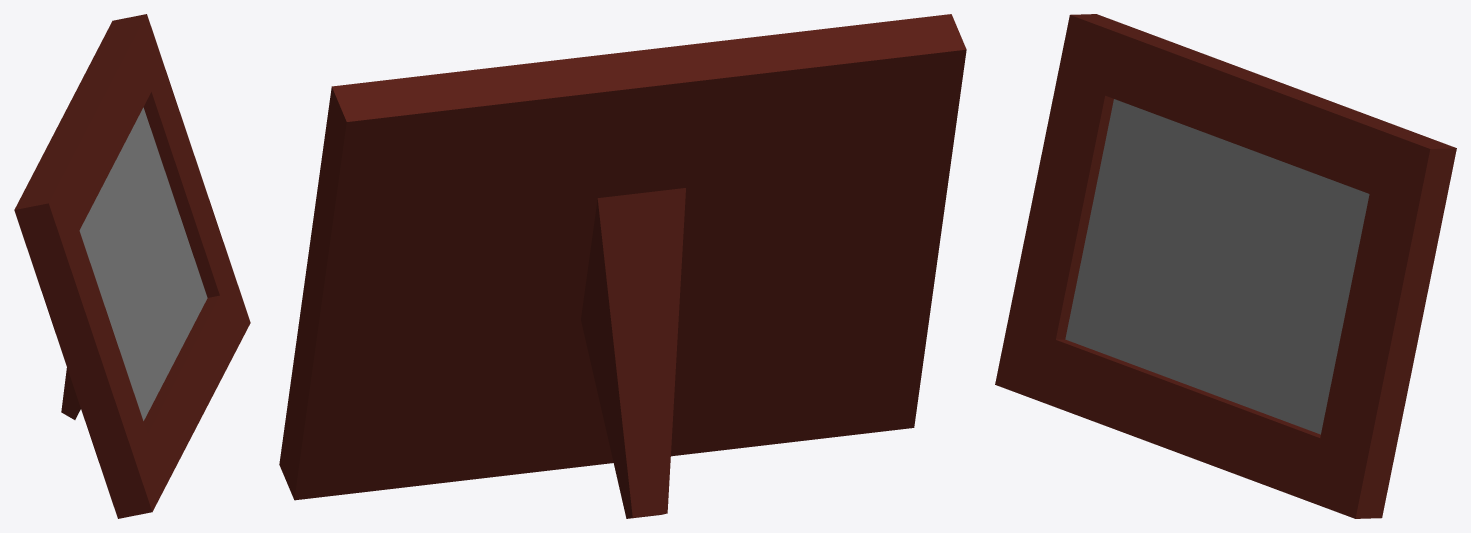
File: trab edu porta retrato.fbx
3 renders of one model, left to right at view 1: azimuth 30°, elevation 25°; view 2: azimuth 150°, elevation 25°; view 3: azimuth 270°, elevation 25°, orthographic. The views are drawn at different scales.
Parts seen in each view (by area): view 1: Cubo.010; view 2: Cubo.010; view 3: Cubo.010.
Boxes of the visible parts, bbox=[...] form: Cubo.010: bbox=[14, 14, 250, 518]; Cubo.010: bbox=[279, 14, 966, 518]; Cubo.010: bbox=[995, 14, 1456, 518].
Size of the model in its own units: 32.86 by 28.16 by 33.66.
